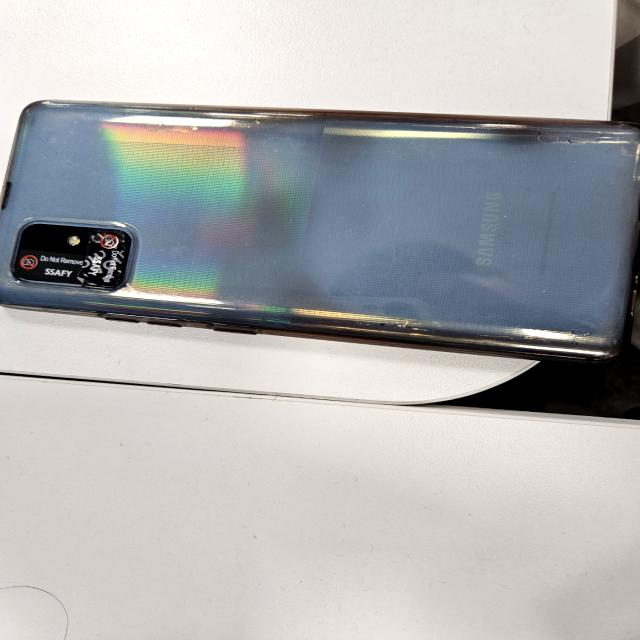phone: (0, 100, 640, 365)
removed_sticker: (83, 230, 125, 286)
sticker: (18, 250, 82, 282)
